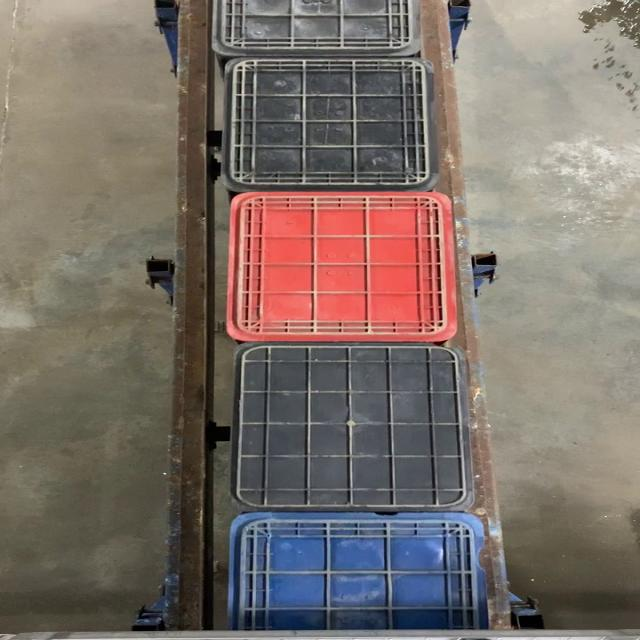Box: (234, 345, 477, 513), (224, 193, 455, 345), (224, 57, 438, 193)
